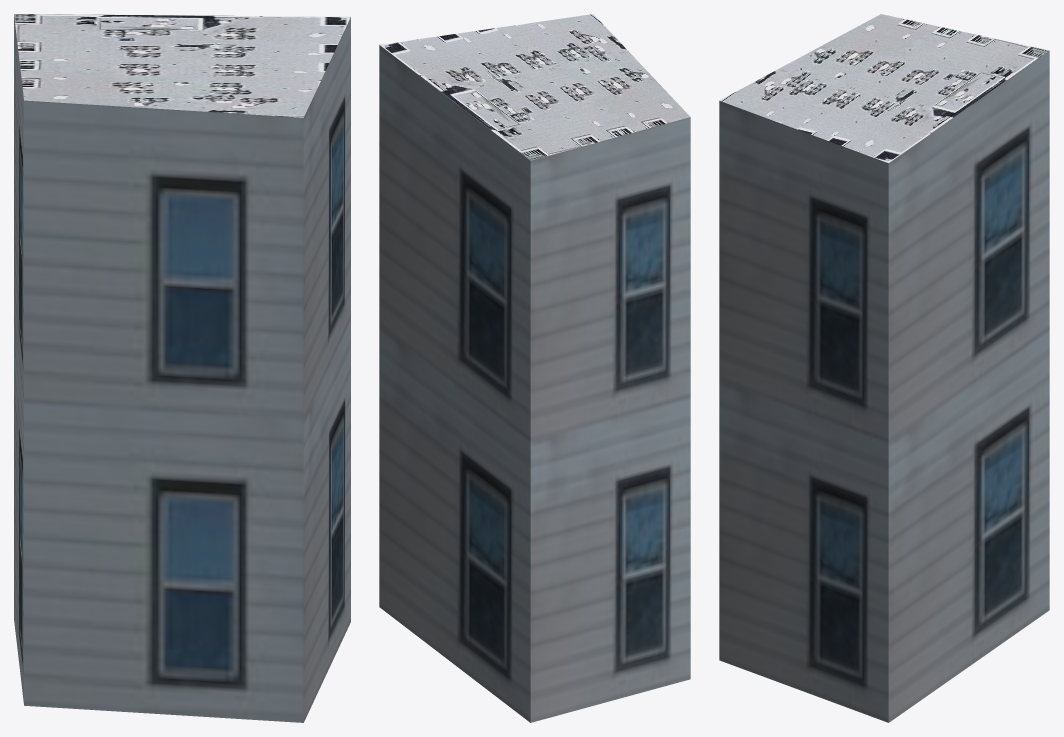
Rendered from ResTex__4422.fbx.
The picture shows the model from 3 angles, left to right: view 1: azimuth 30°, elevation 25°; view 2: azimuth 150°, elevation 25°; view 3: azimuth 270°, elevation 25°; orthographic projection. The views are drawn at different scales.
Parts seen in each view (by area): view 1: CityEngineMaterial_18_m, CityEngineMaterial_m; view 2: CityEngineMaterial_18_m, CityEngineMaterial_m; view 3: CityEngineMaterial_18_m, CityEngineMaterial_m.
Part boxes in pixels (x1=…): CityEngineMaterial_18_m: x1=14, y1=15, x2=350, y2=722; CityEngineMaterial_m: x1=14, y1=14, x2=350, y2=117; CityEngineMaterial_18_m: x1=379, y1=45, x2=690, y2=722; CityEngineMaterial_m: x1=379, y1=14, x2=689, y2=160; CityEngineMaterial_18_m: x1=719, y1=51, x2=1049, y2=722; CityEngineMaterial_m: x1=719, y1=14, x2=1049, y2=163.
Size of the model in its own units: 3.43 by 6 by 3.21.
Materials: 2 (2 with a texture image).
